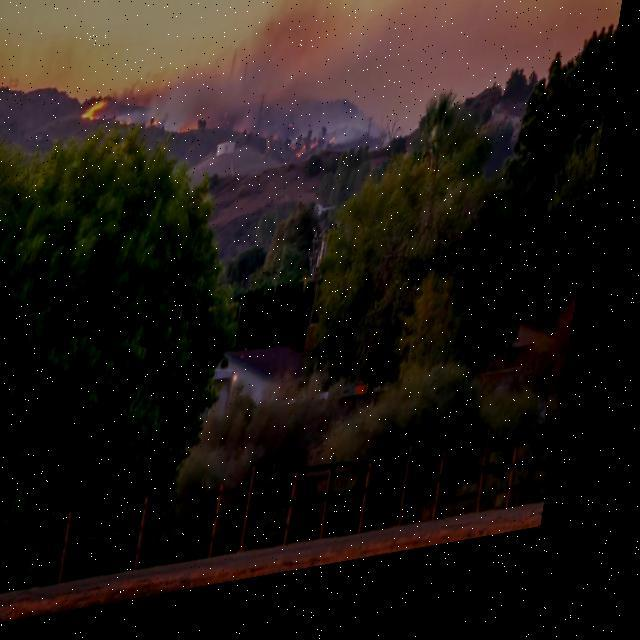Fire: (88, 103, 110, 125), (302, 158, 314, 172), (124, 123, 136, 133), (152, 124, 164, 134), (316, 151, 326, 162), (336, 147, 344, 158)
